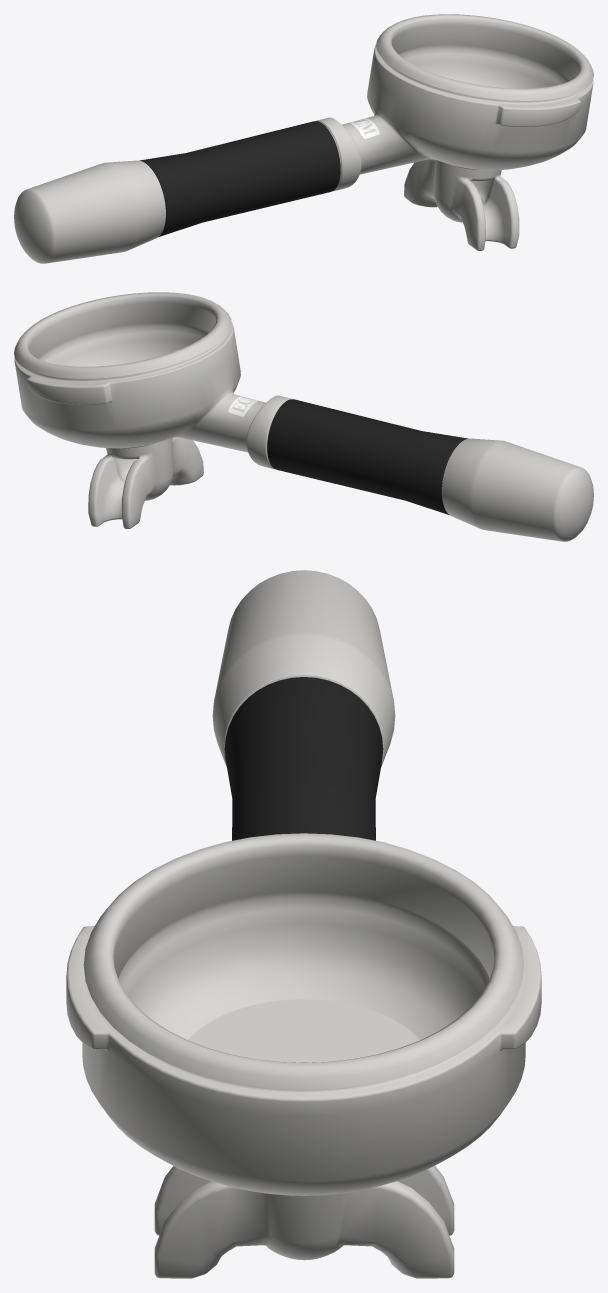
The model's file is portafilter.glb.
3 views of the same model, one above another, from view 1: azimuth 30°, elevation 25°; view 2: azimuth 150°, elevation 25°; view 3: azimuth 270°, elevation 25° (orthographic). The views are drawn at different scales.
Visible parts, largest first — view 1: WLL9P02; view 2: WLL9P02; view 3: WLL9P02.
Part boxes in pixels (left/top/right/bottom): WLL9P02: left=14, top=14, right=593, bottom=263; WLL9P02: left=14, top=292, right=593, bottom=541; WLL9P02: left=66, top=570, right=541, bottom=1278.
Size of the model in its own units: 0.1754 by 0.0552 by 0.0648.
Materials: 1 (1 with a texture image).
